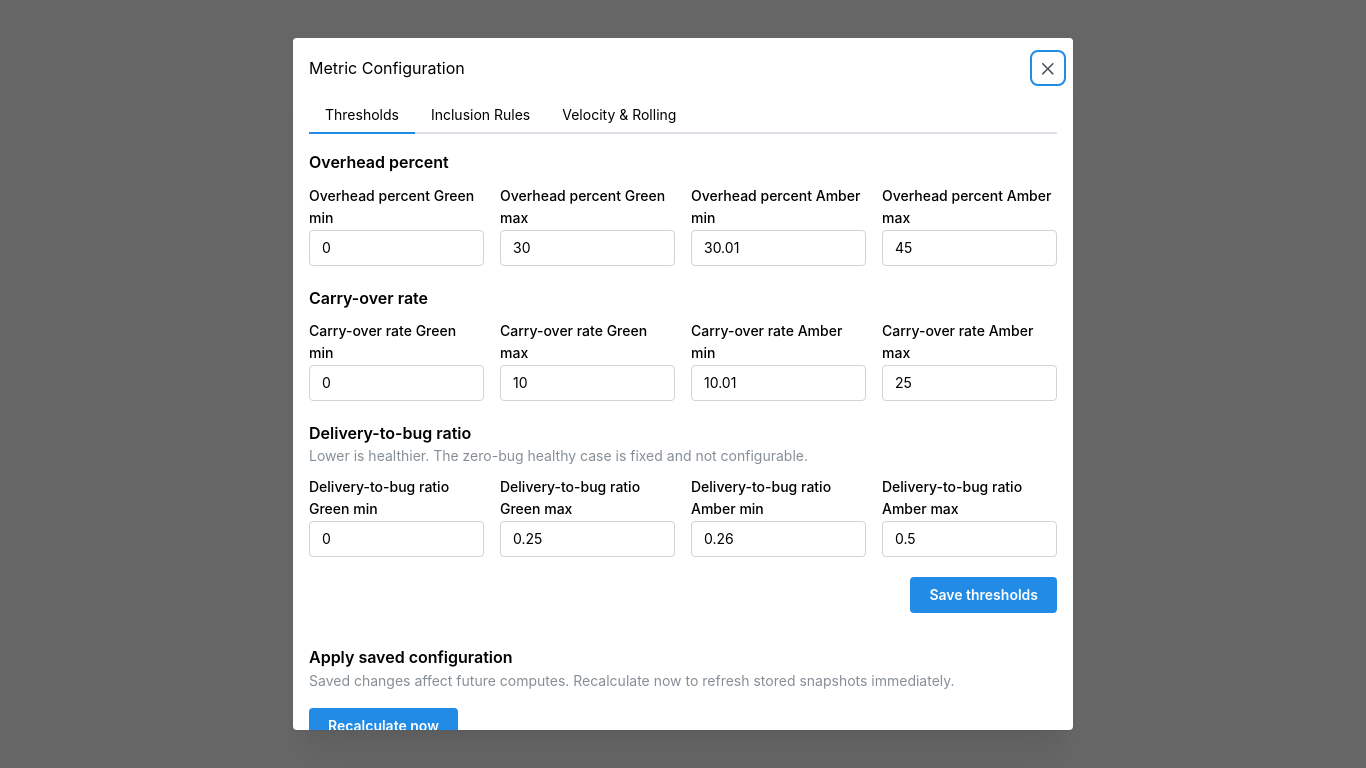
Test: MetricConfigPanel › saves inclusion rule edits
The image size is (1366, 768).
Click the tab "Inclusion Rules" at (481, 116), box [415, 98, 546, 134]
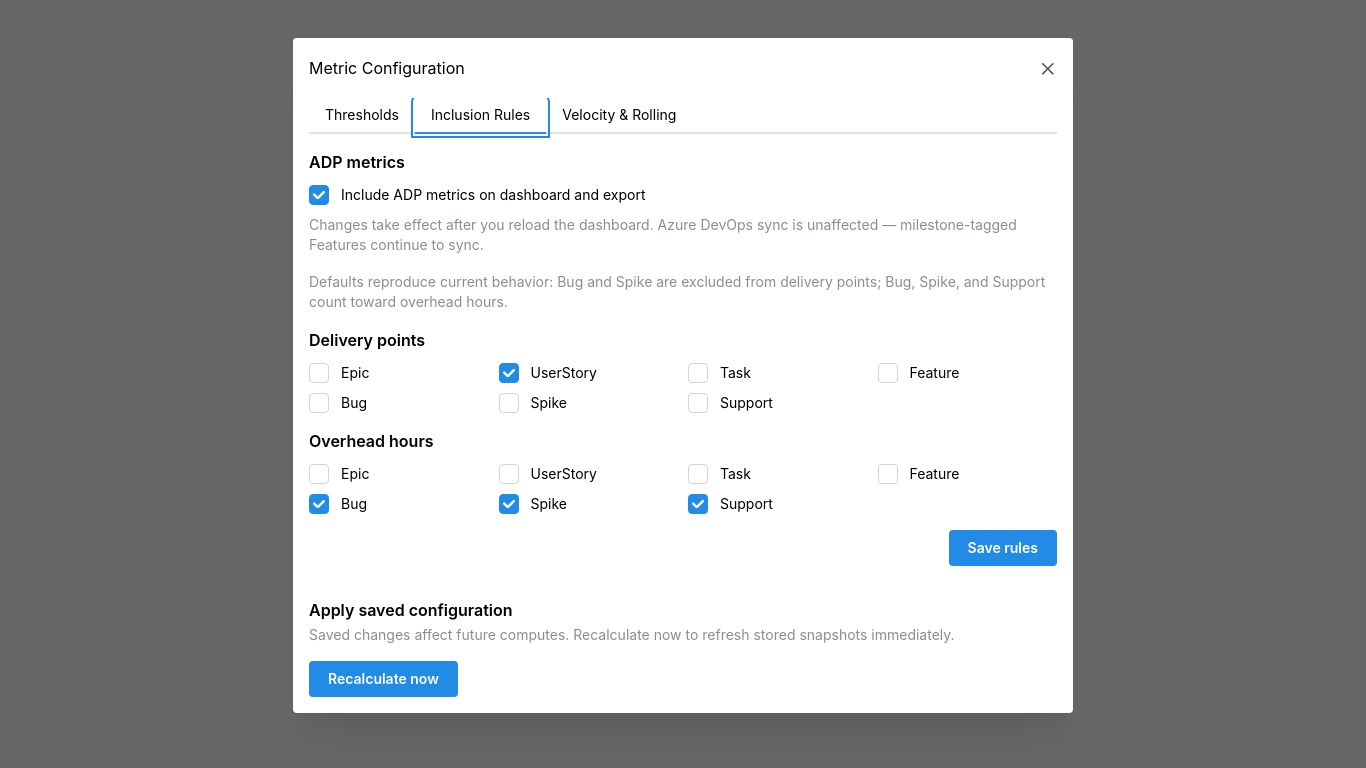
Click the checkbox named "Include Bug in delivery points" at (319, 403), box [309, 393, 329, 413]
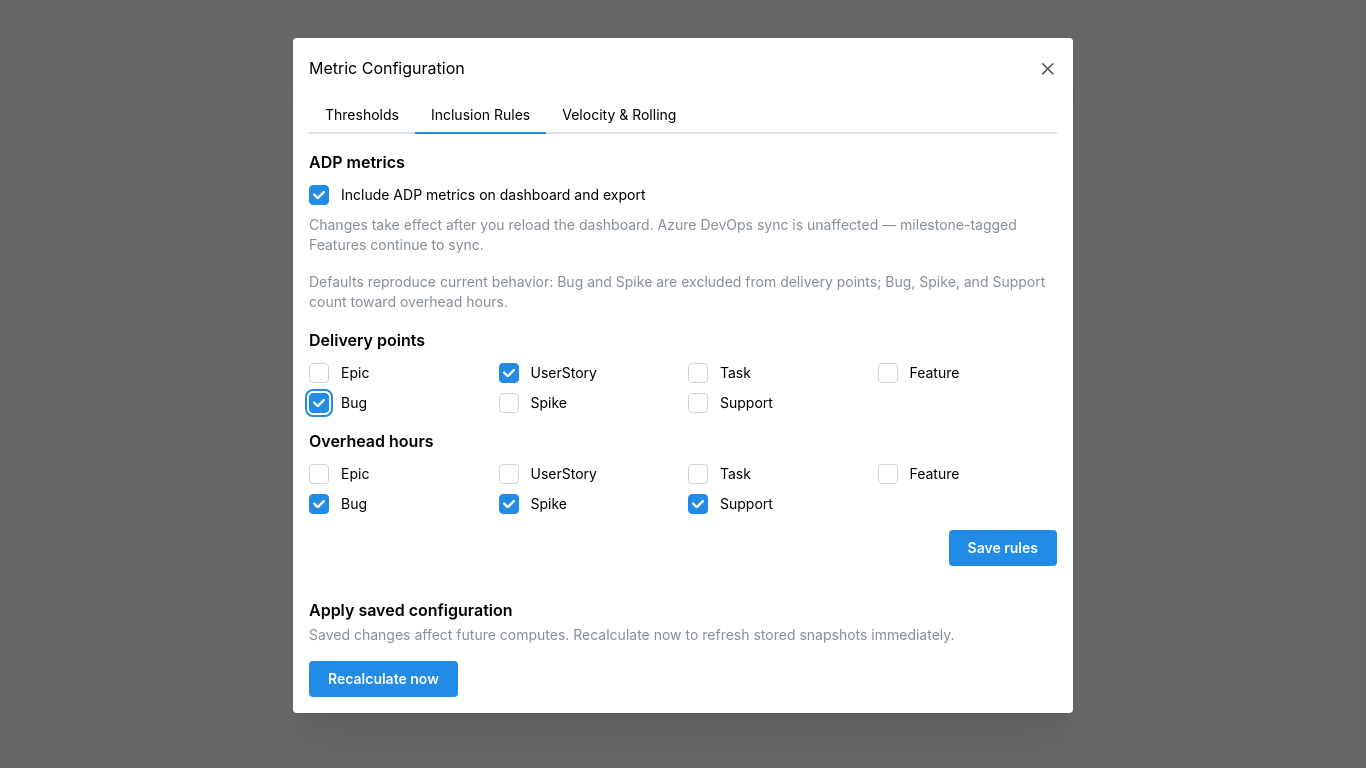
Click the button "Save rules" at (1003, 548), box [949, 530, 1057, 566]
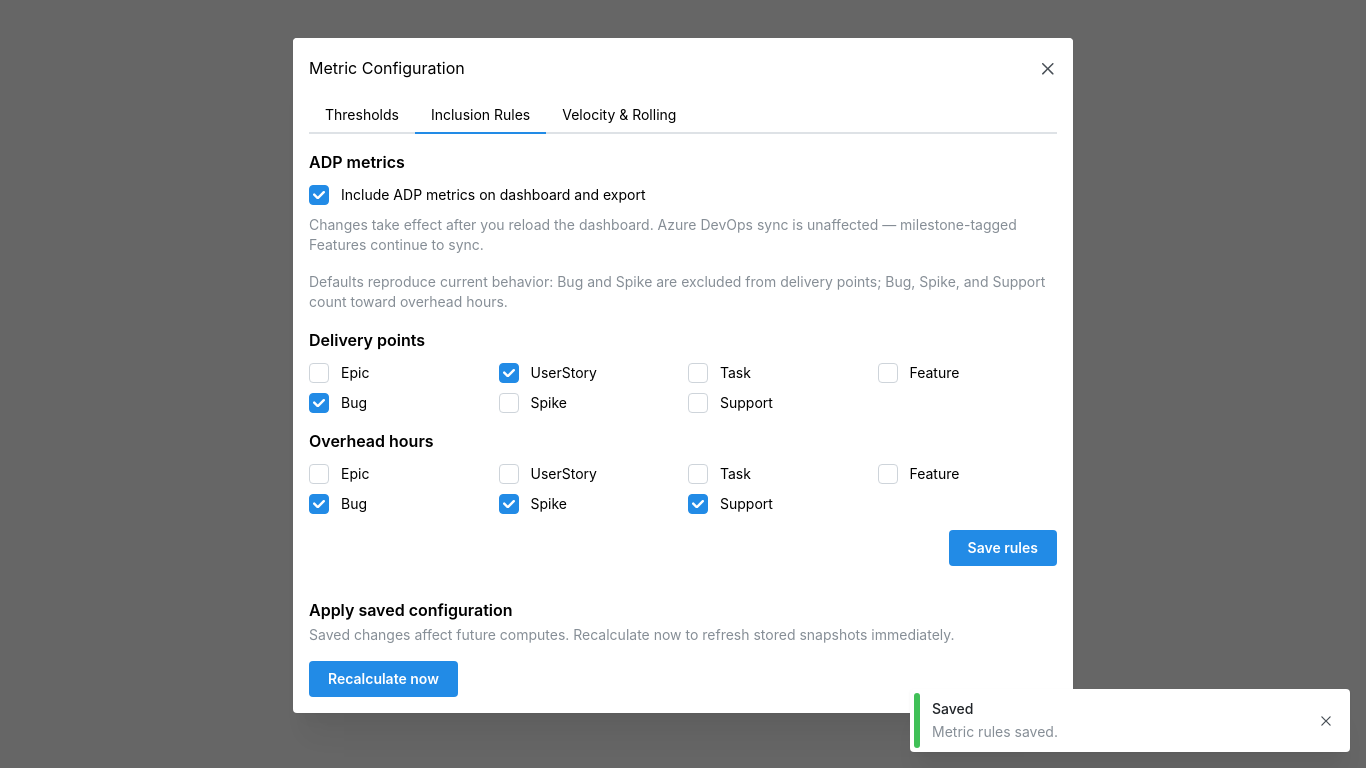
Now the text "Metric rules saved." is shown, box [932, 723, 1058, 740]
